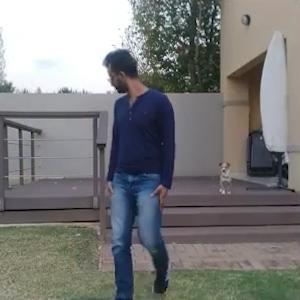follow: (80, 32, 179, 280)
